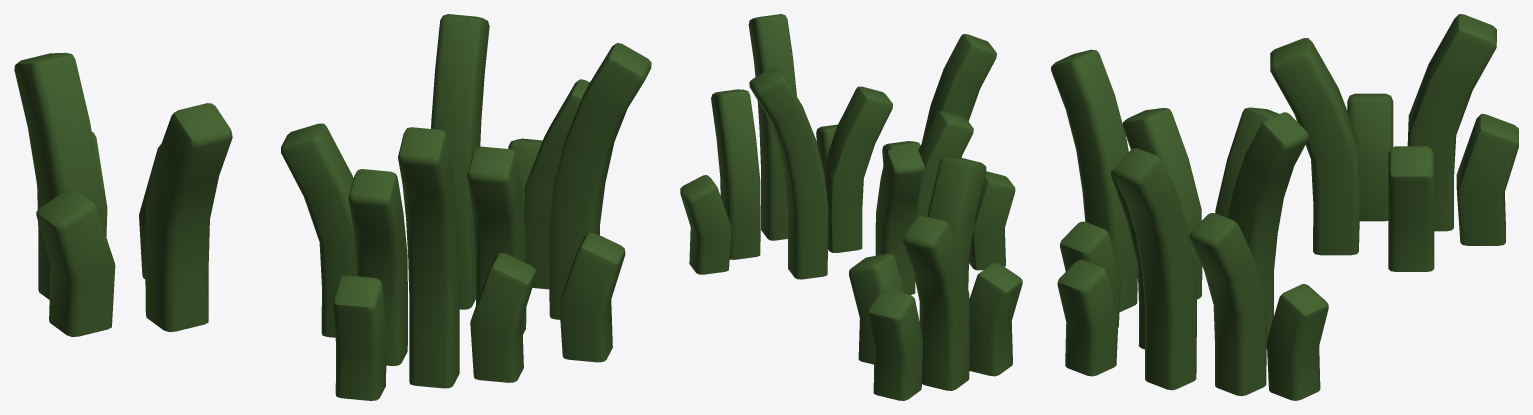
File: SM_GrassClump_04.glb
3 views of the same model, side by side, from view 1: azimuth 30°, elevation 25°; view 2: azimuth 150°, elevation 25°; view 3: azimuth 270°, elevation 25° (orthographic). The views are drawn at different scales.
Visible parts, largest first — view 1: SM_GrassClump_04; view 2: SM_GrassClump_04; view 3: SM_GrassClump_04.
Part boxes in pixels (<box>): SM_GrassClump_04: <box>14,14,651,400</box>; SM_GrassClump_04: <box>680,14,1022,400</box>; SM_GrassClump_04: <box>1051,14,1518,400</box>.
Size of the model in its own units: 1.65 by 0.8696 by 1.55.
